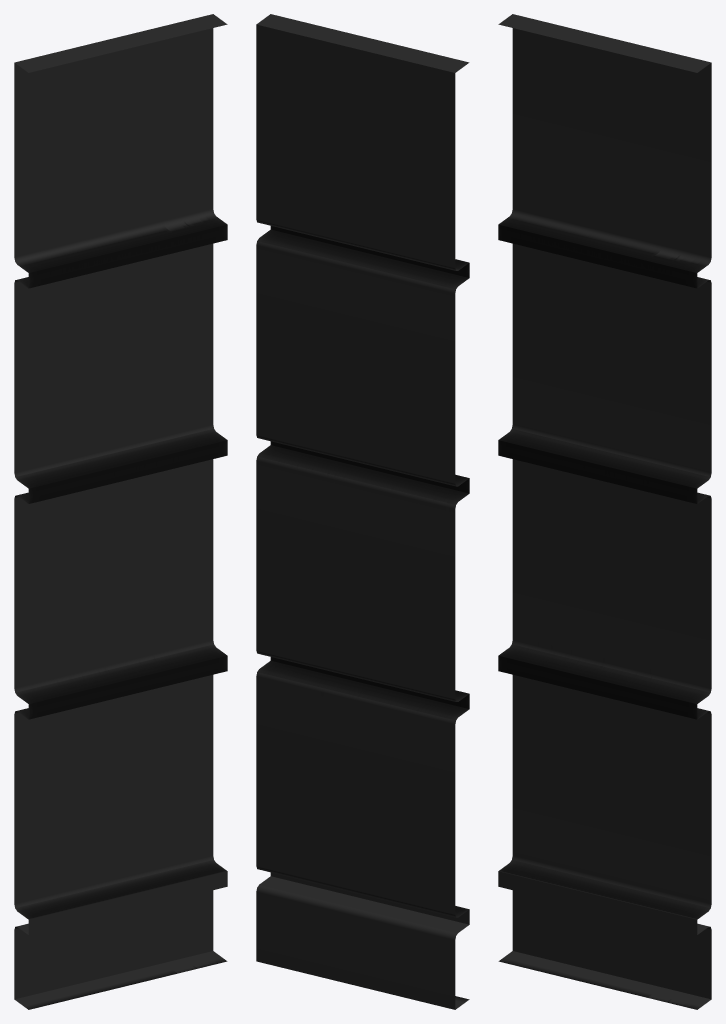
File: VAL_1M_SW.fbx
3 views of the same model, side by side, from view 1: azimuth 30°, elevation 25°; view 2: azimuth 150°, elevation 25°; view 3: azimuth 330°, elevation 25° (orthographic).
Visible parts, largest first — view 1: VAL_1M_SW; view 2: VAL_1M_SW; view 3: VAL_1M_SW.
Part boxes in pixels (x1=…): VAL_1M_SW: x1=14, y1=14, x2=227, y2=1009; VAL_1M_SW: x1=256, y1=14, x2=469, y2=1009; VAL_1M_SW: x1=498, y1=14, x2=711, y2=1009.
Size of the model in its own units: 1 by 4.5 by 0.125.
Materials: 1 (1 with a texture image).
